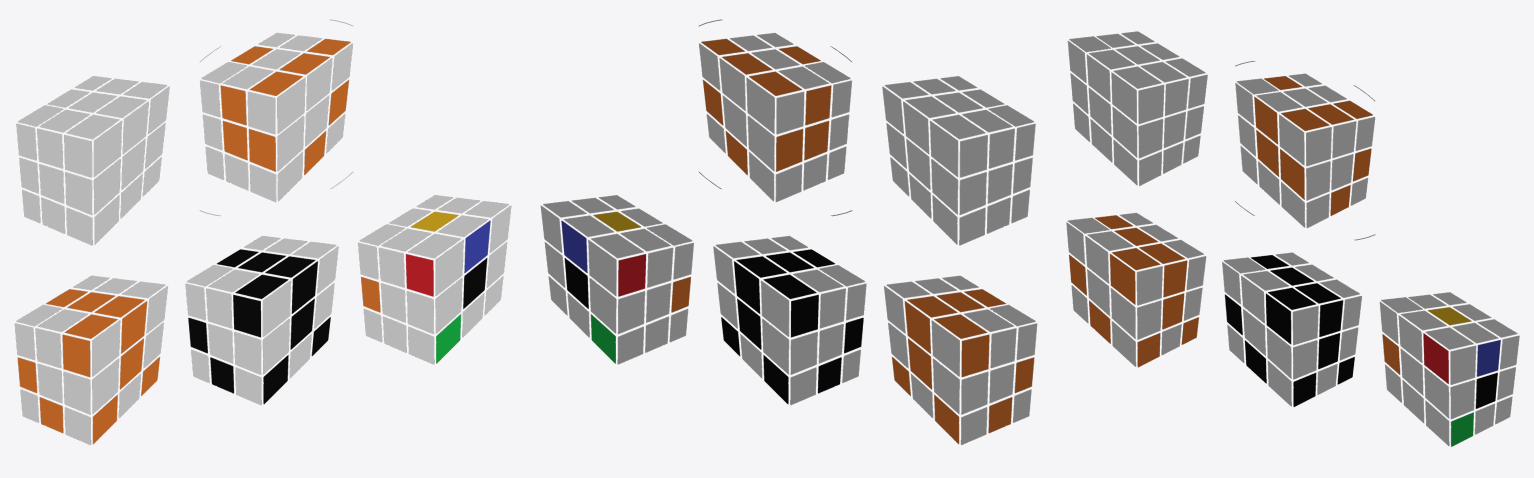
The model's file is cube rubik.glb.
The picture shows the model from 3 angles, left to right: view 1: azimuth 30°, elevation 25°; view 2: azimuth 150°, elevation 25°; view 3: azimuth 330°, elevation 25°; orthographic projection. The views are drawn at different scales.
Visible parts, largest first — view 1: mesh_id105, mesh_id72, mesh_id99, mesh_id59, mesh_id80; view 2: mesh_id105, mesh_id72, mesh_id99, mesh_id59, mesh_id80; view 3: mesh_id105, mesh_id59, mesh_id80, mesh_id72, mesh_id99.
Boxes of the visible parts, bbox=[...] form: mesh_id105: bbox=[199, 19, 353, 216]; mesh_id72: bbox=[185, 236, 338, 404]; mesh_id99: bbox=[16, 76, 169, 245]; mesh_id59: bbox=[14, 275, 167, 444]; mesh_id80: bbox=[358, 195, 511, 364]; mesh_id105: bbox=[698, 19, 852, 216]; mesh_id72: bbox=[713, 236, 866, 404]; mesh_id99: bbox=[882, 76, 1035, 245]; mesh_id59: bbox=[884, 275, 1037, 444]; mesh_id80: bbox=[540, 195, 693, 364]; mesh_id105: bbox=[1235, 60, 1375, 240]; mesh_id59: bbox=[1066, 213, 1206, 367]; mesh_id80: bbox=[1379, 292, 1519, 446]; mesh_id72: bbox=[1222, 252, 1361, 406]; mesh_id99: bbox=[1067, 31, 1207, 185].
Bounding box in the file's own units: 2.25 × 1.61 × 0.
5 materials, 5 textured.
